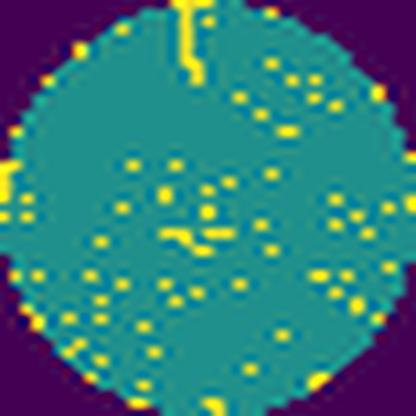Scratch: (166, 0, 215, 90)
